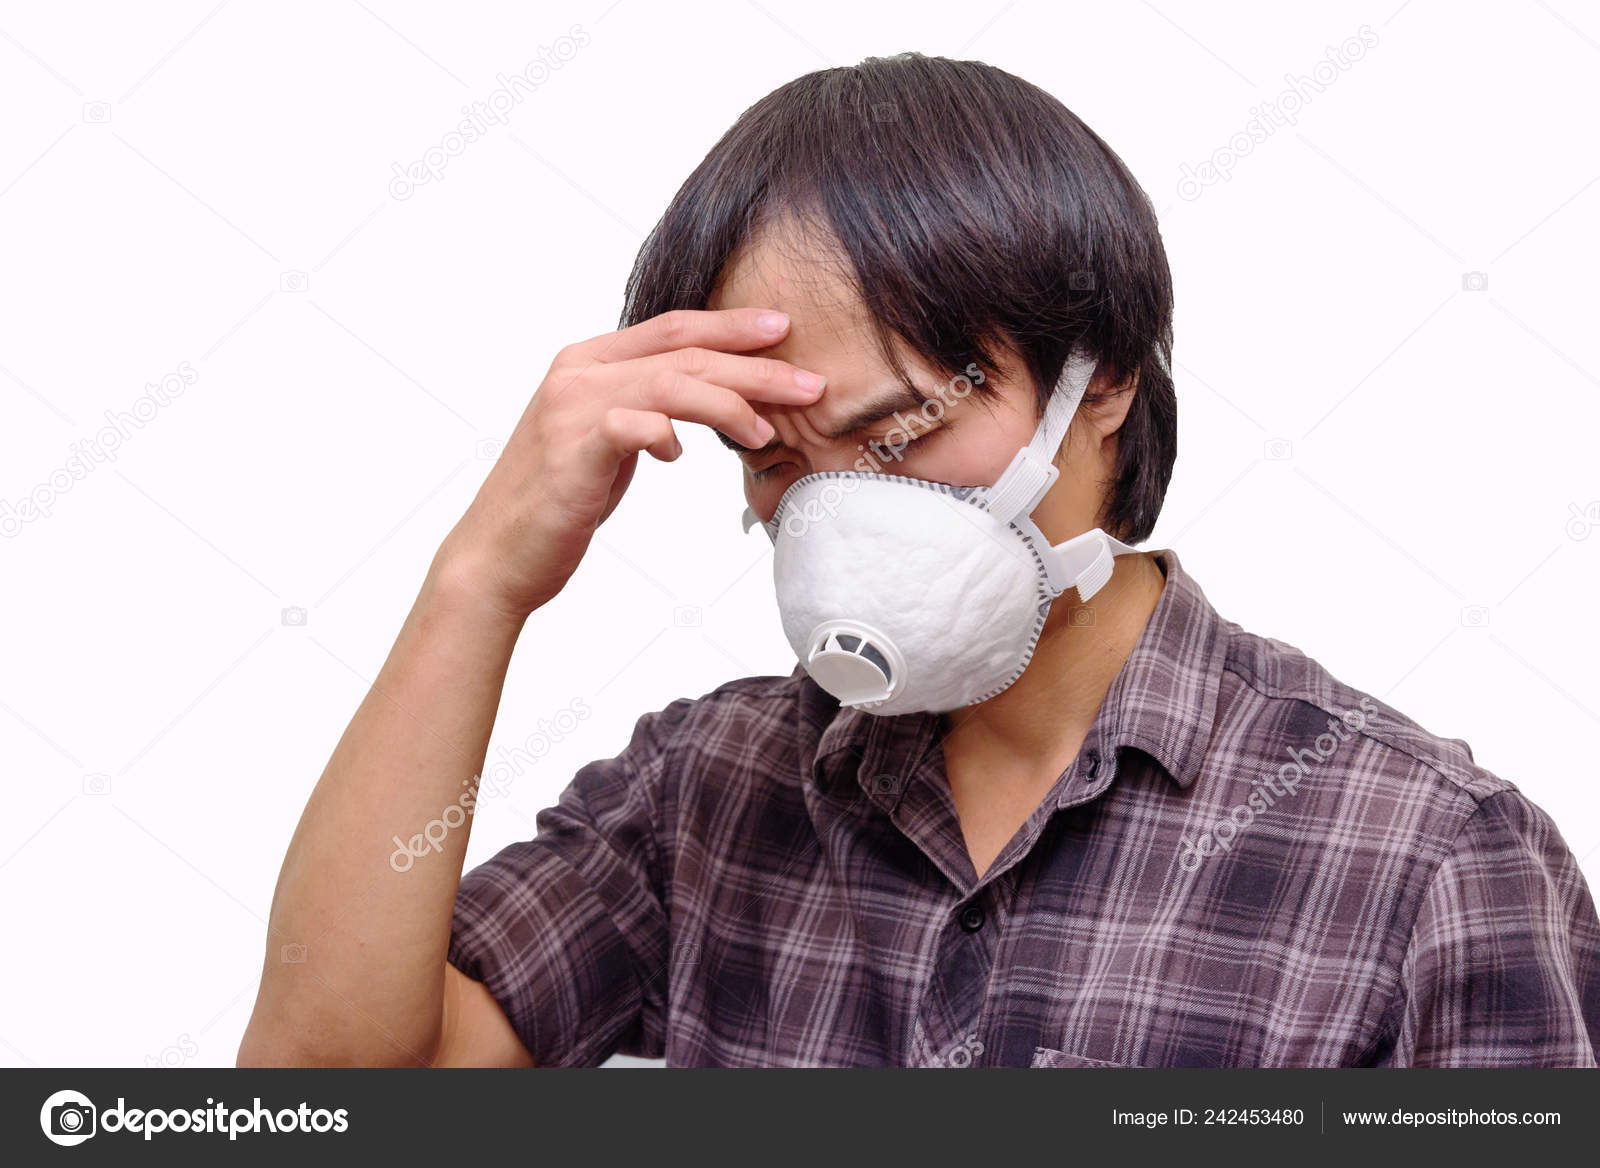n95: (730, 452, 1093, 724)
